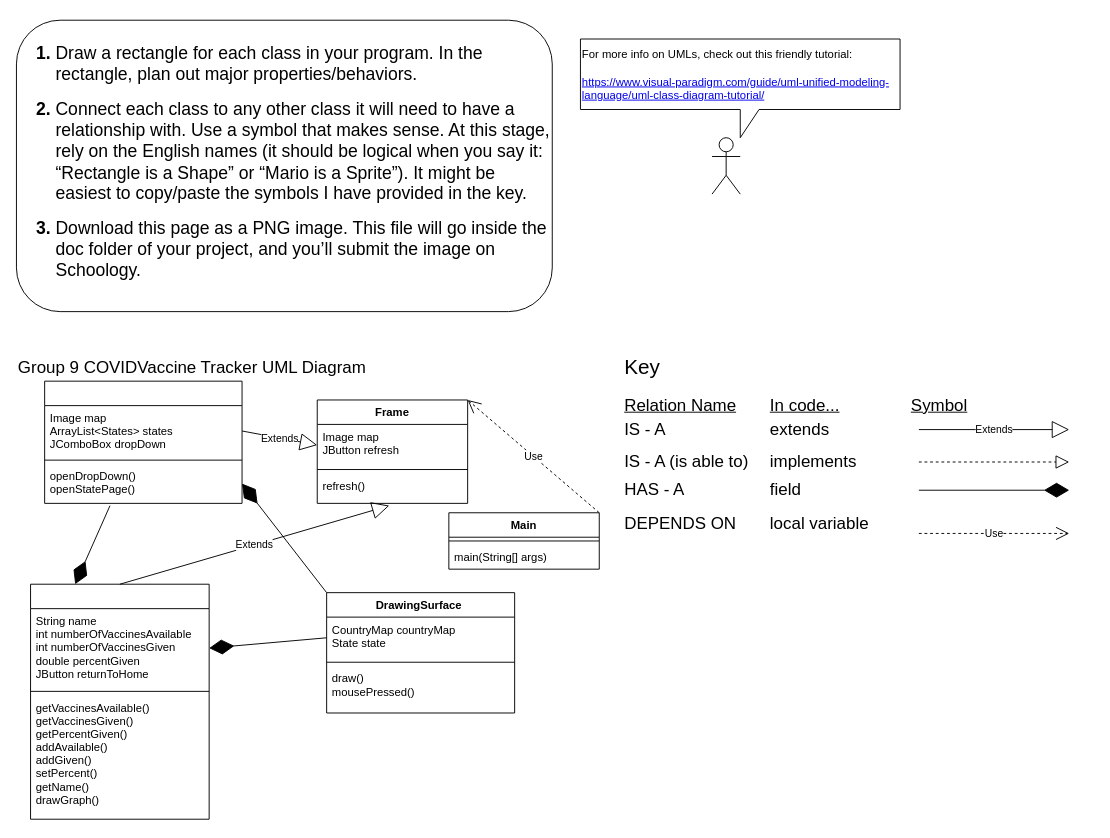
The diagram is 1110 pixels wide and 838 high, and some of its shapes have lost their labels. Here are the shapes that lost their labels. From the top down, the box of each, then its label:
(711, 137, 740, 194): Actor
(44, 380, 242, 503): CountryMap
(30, 583, 209, 819): State
